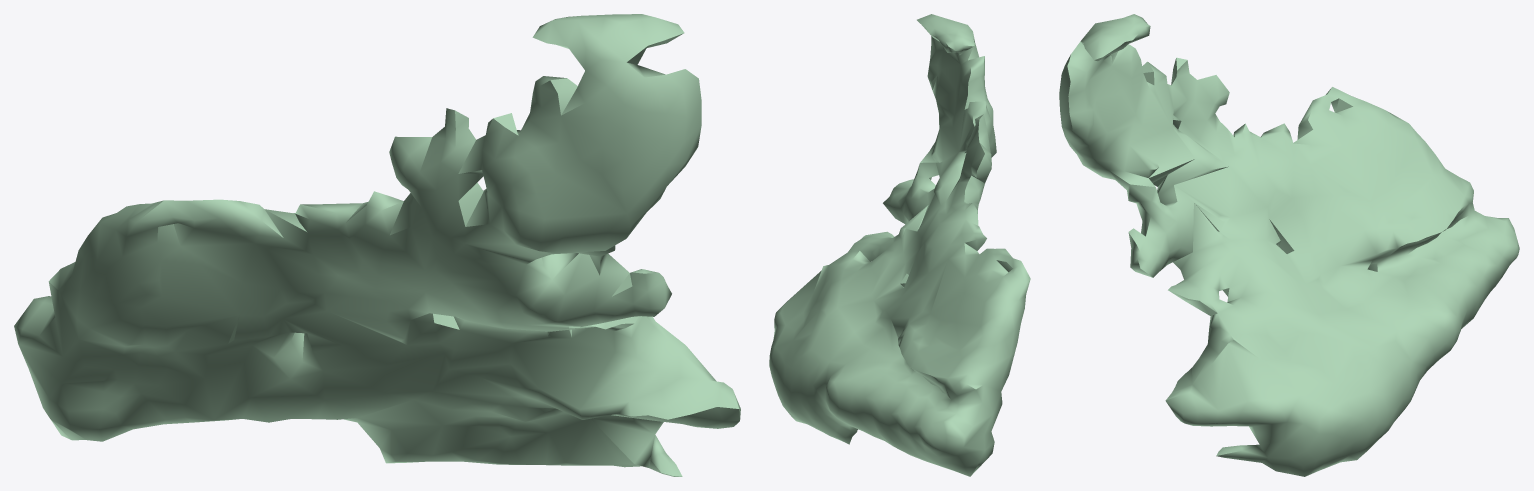
The model's file is spl-318.glb.
3 views of the same model, side by side, from view 1: azimuth 30°, elevation 25°; view 2: azimuth 150°, elevation 25°; view 3: azimuth 270°, elevation 25° (orthographic). The views are drawn at different scales.
Visible parts, largest first — view 1: spl-318; view 2: spl-318; view 3: spl-318.
Part boxes in pixels (left/top/right/bottom): spl-318: left=14, top=14, right=740, bottom=476; spl-318: left=769, top=14, right=1030, bottom=476; spl-318: left=1059, top=14, right=1519, bottom=476.
Bounding box in the file's own units: 19.01 × 20.97 × 21.63.
